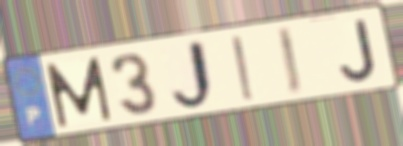3: (109, 51, 160, 116)
I: (273, 24, 306, 99), (228, 33, 259, 104)
J: (168, 37, 221, 113), (337, 16, 380, 84)
M: (43, 54, 115, 131)
